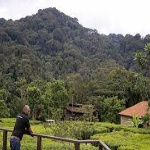Forest: (1, 23, 139, 103)
